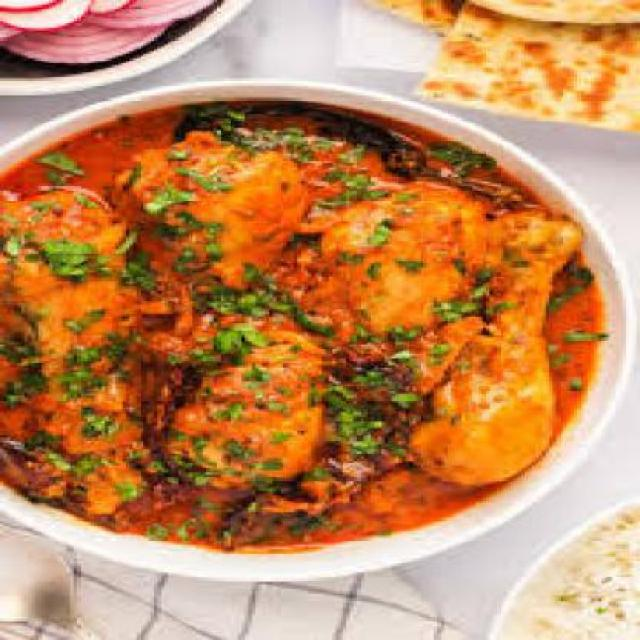CHICKEN CURRY: (0, 98, 607, 554)
